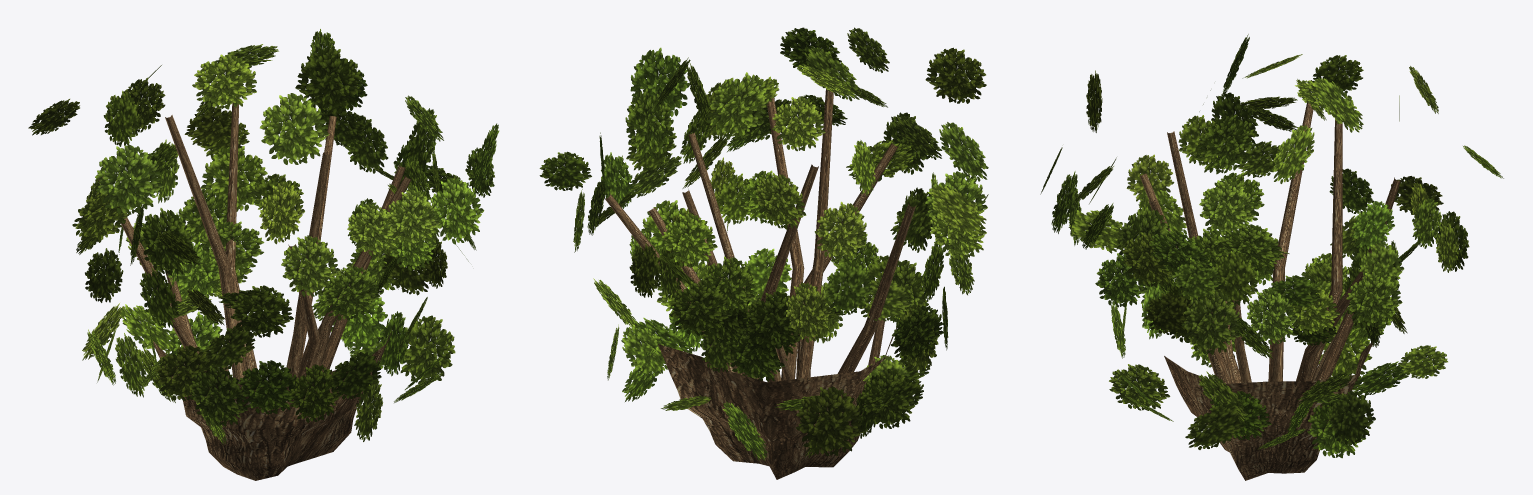
The model's file is mm8_deco_plant42.glb.
The picture shows the model from 3 angles, left to right: view 1: azimuth 30°, elevation 25°; view 2: azimuth 150°, elevation 25°; view 3: azimuth 270°, elevation 25°; orthographic projection. The views are drawn at different scales.
Visible parts, largest first — view 1: Plant; view 2: Plant; view 3: Plant.
Part boxes in pixels (<box>): Plant: <box>28,29,499,480</box>; Plant: <box>539,27,988,479</box>; Plant: <box>1040,34,1503,480</box>.
Bounding box in the file's own units: 1.48 × 1.38 × 1.57.
2 materials, 2 textured.
